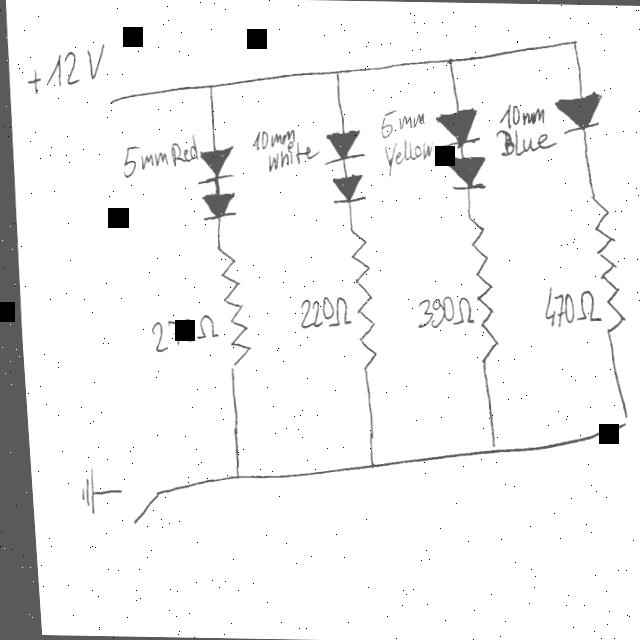diode: (430, 104, 482, 152), (551, 91, 604, 136), (438, 154, 489, 194), (319, 126, 365, 168), (194, 143, 234, 187), (328, 172, 364, 205), (197, 191, 235, 222)
ground: (70, 465, 91, 516)
junction: (611, 408, 627, 434), (222, 465, 238, 487), (479, 435, 494, 458), (358, 457, 371, 473), (568, 36, 580, 49), (331, 67, 342, 79), (445, 55, 454, 67), (204, 81, 213, 92)
resistor: (580, 190, 623, 338), (464, 213, 495, 366), (213, 241, 248, 376), (345, 227, 374, 373)
switch: (106, 482, 158, 525)
terminal: (104, 94, 117, 109)
text: (23, 41, 107, 96), (118, 131, 196, 180), (142, 313, 212, 355), (537, 283, 598, 330), (410, 291, 471, 331), (381, 137, 433, 180), (293, 294, 348, 331), (493, 128, 556, 159), (264, 139, 319, 174), (376, 105, 427, 141), (496, 101, 544, 130), (247, 124, 295, 153)
